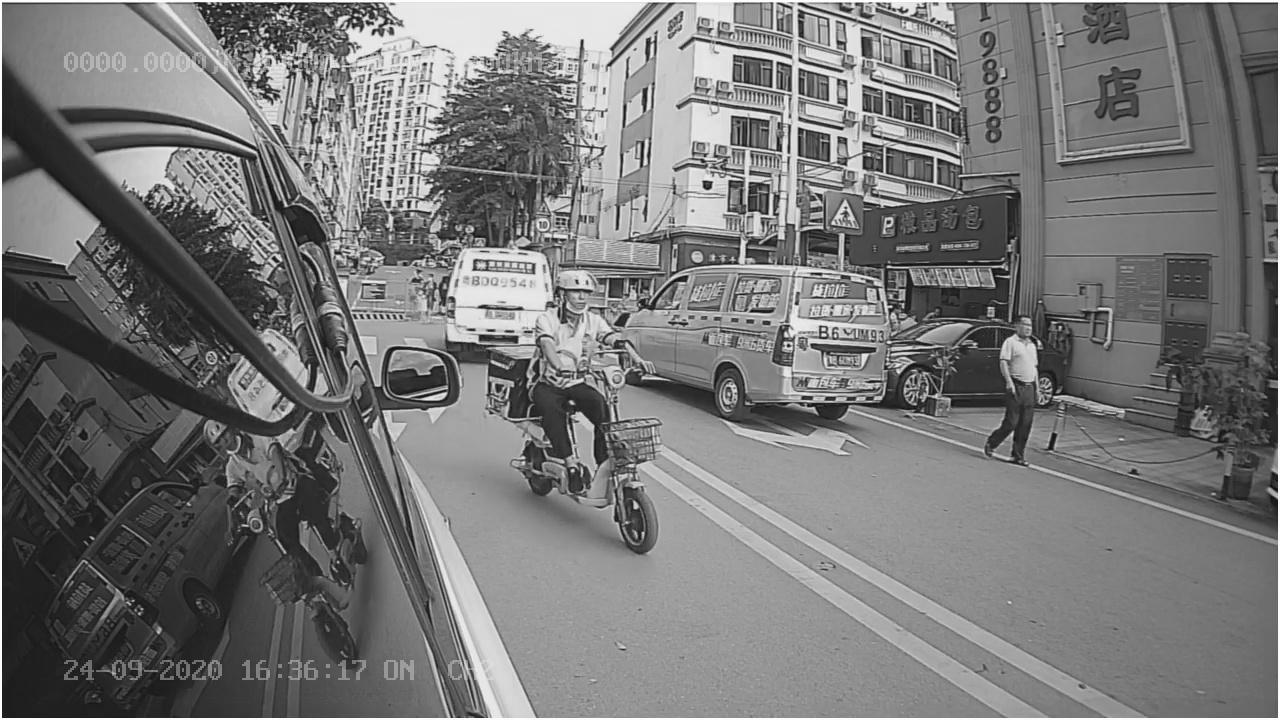person: (970, 307, 1052, 482)
